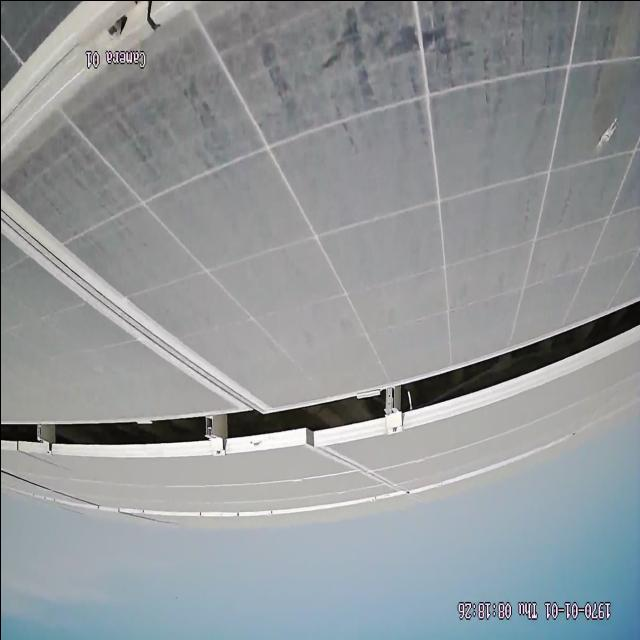interior panel: (0, 0, 253, 399)
outher panel: (1, 299, 640, 454)
